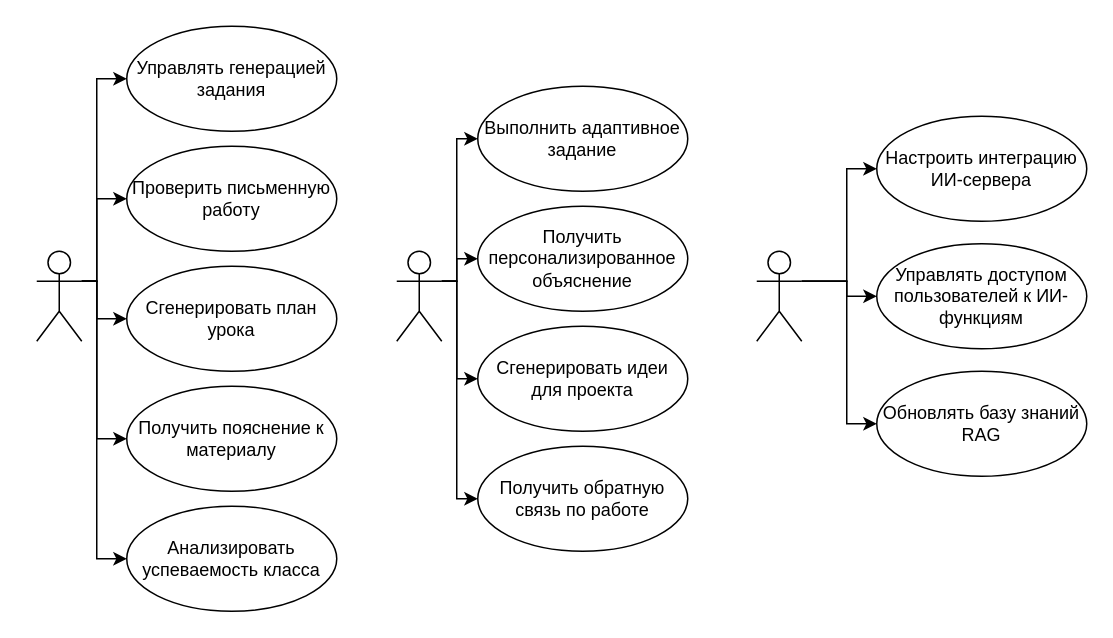
Image size: 1113x638. Some labels were removed from this diagram. The centre of each missing label's shape, as x and y in pixels:
"Администратор" goes at (x=778, y=295).
"Ученик" goes at (x=418, y=295).
"Учитель" goes at (x=58, y=295).
